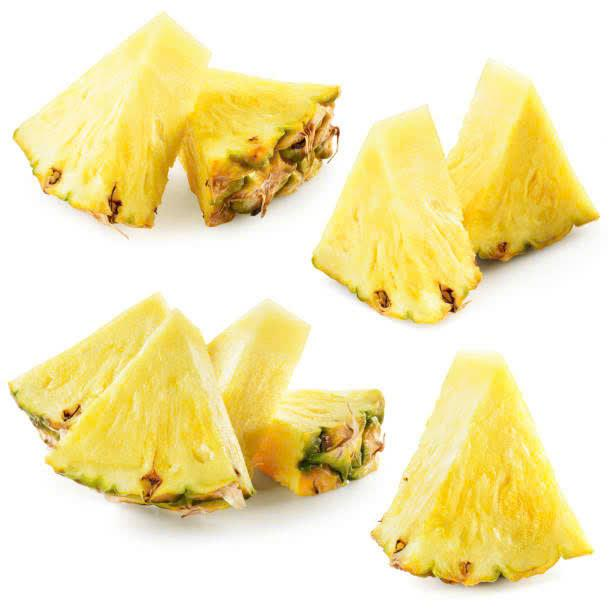pineapple: (1, 289, 381, 498), (334, 74, 599, 321), (10, 17, 333, 201), (407, 324, 581, 574)
